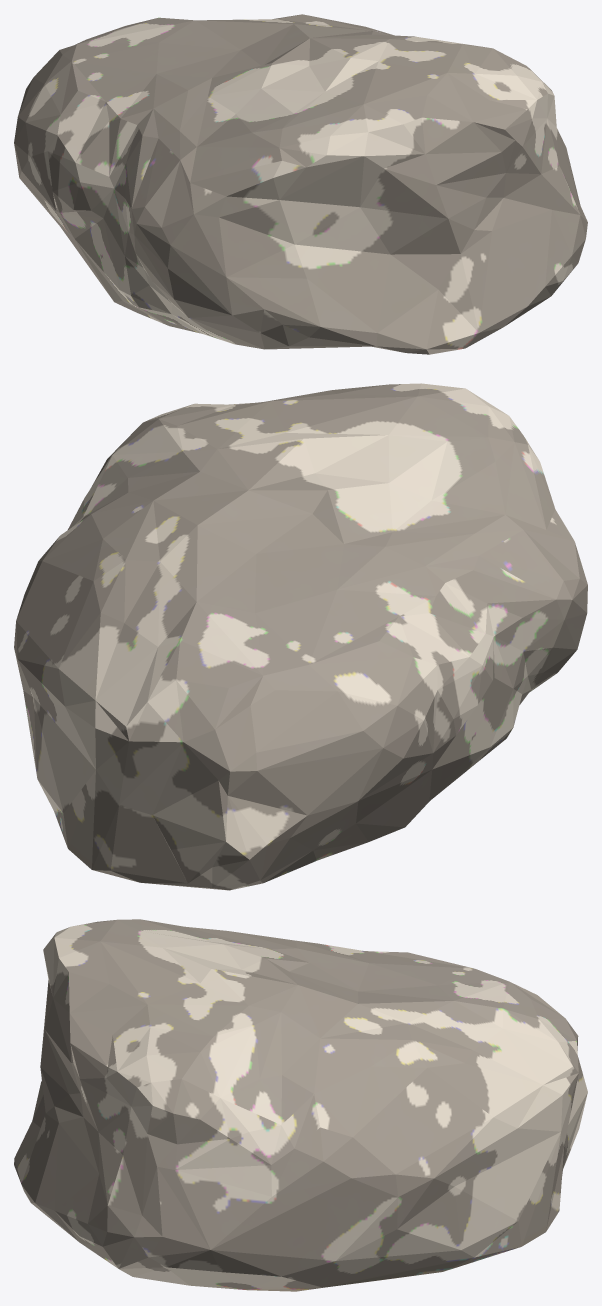
The model's file is RockGrayC.fbx.
The picture shows the model from 3 angles, top to bottom: view 1: azimuth 30°, elevation 25°; view 2: azimuth 150°, elevation 25°; view 3: azimuth 270°, elevation 25°; orthographic projection. The views are drawn at different scales.
Parts seen in each view (by area): view 1: RockGrayC; view 2: RockGrayC; view 3: RockGrayC.
Boxes of the visible parts, x1=… form: RockGrayC: x1=14, y1=14, x2=587, y2=354; RockGrayC: x1=14, y1=383, x2=587, y2=890; RockGrayC: x1=14, y1=919, x2=587, y2=1291.
Bounding box in the file's own units: 2.55 × 1.64 × 3.
1 material, 1 textured.
